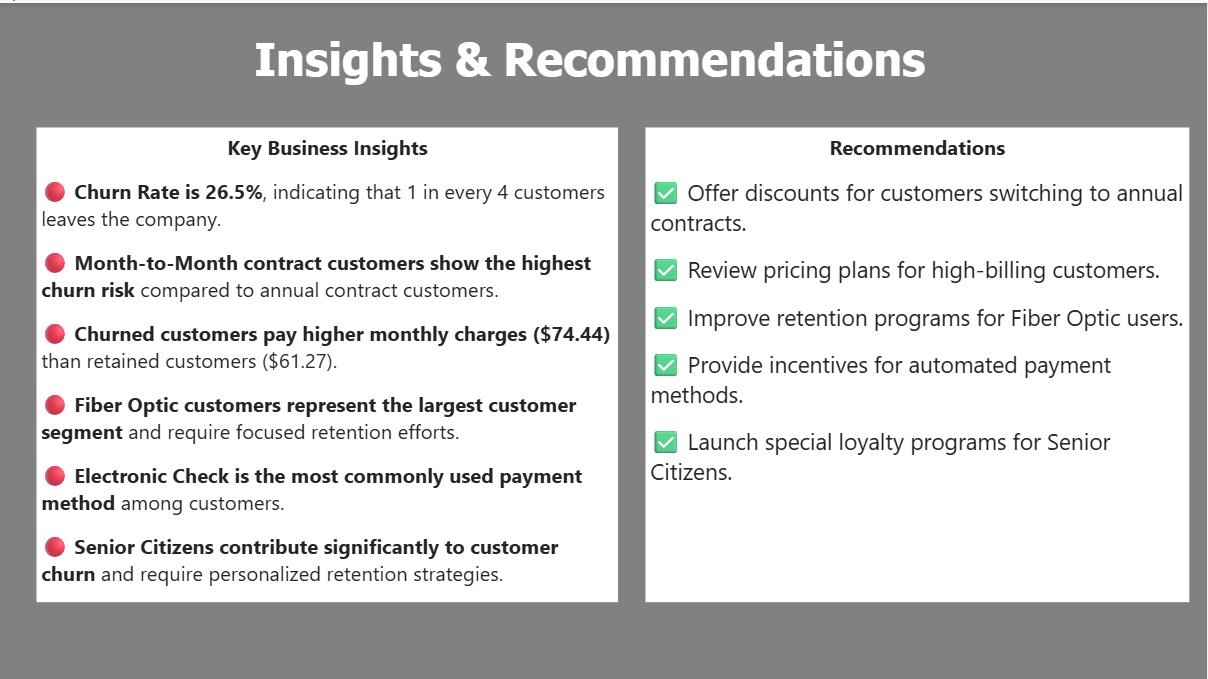

This screenshot's page, from the dashboard's own definition file:
{"tool":"powerbi","page":{"name":"INSIGHTS & RECOMMENDATIONS","canvas":[1280,720],"ordinal":1},"visuals":[{"type":"textbox","box":[40.5,132.8,616.9,503.6],"z":0},{"type":"textbox","box":[684.9,132.8,576.4,503.6],"z":1},{"type":"textbox","box":[100.4,24.3,1052.5,85.8],"z":2}]}

Visuals, with their boxes in screenshot pixels (x1, y1, x2, y2), scaled from the page's 1280x720 canvas onto the 1208x679 screenshot:
textbox: box(38, 125, 620, 600)
textbox: box(646, 125, 1190, 600)
textbox: box(95, 23, 1088, 104)
